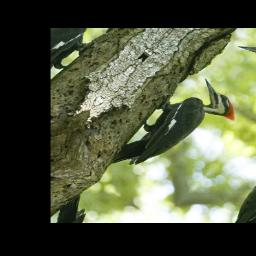Woodpecker: (104, 70, 248, 196)
